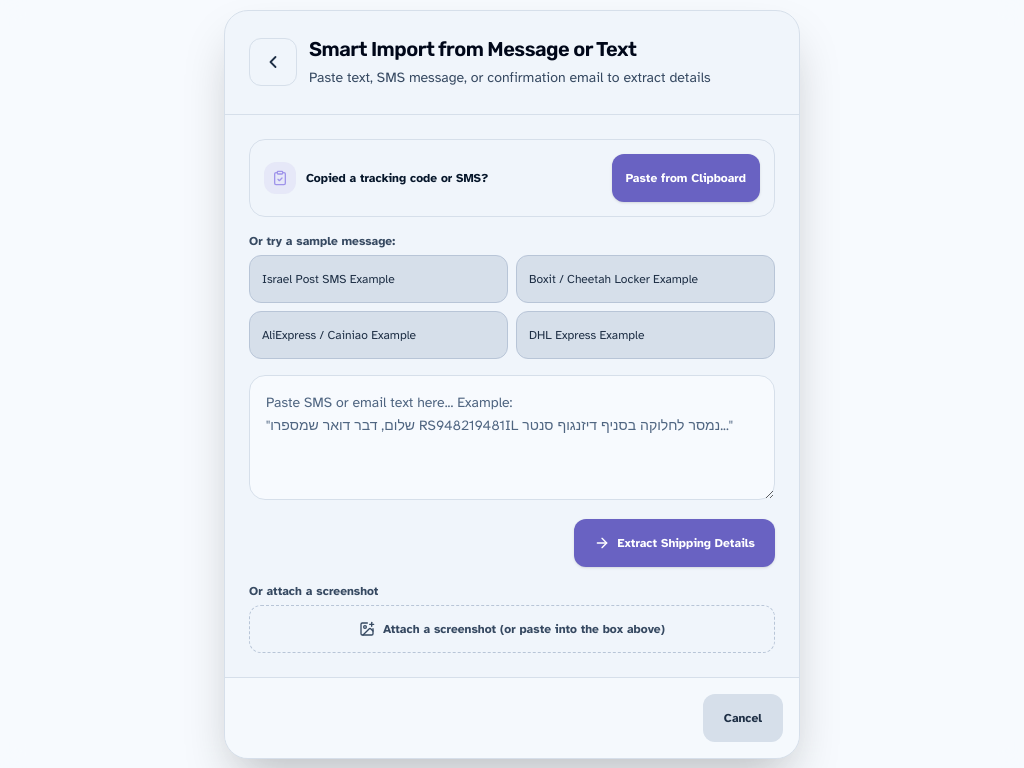
SmartImportModal — AI fallback (rendered) › shows a double-check hint for a low-confidence AI result
Type "unclear message" into the text box.
click(512, 437); type("unclear message")  # box [249,374,775,499]
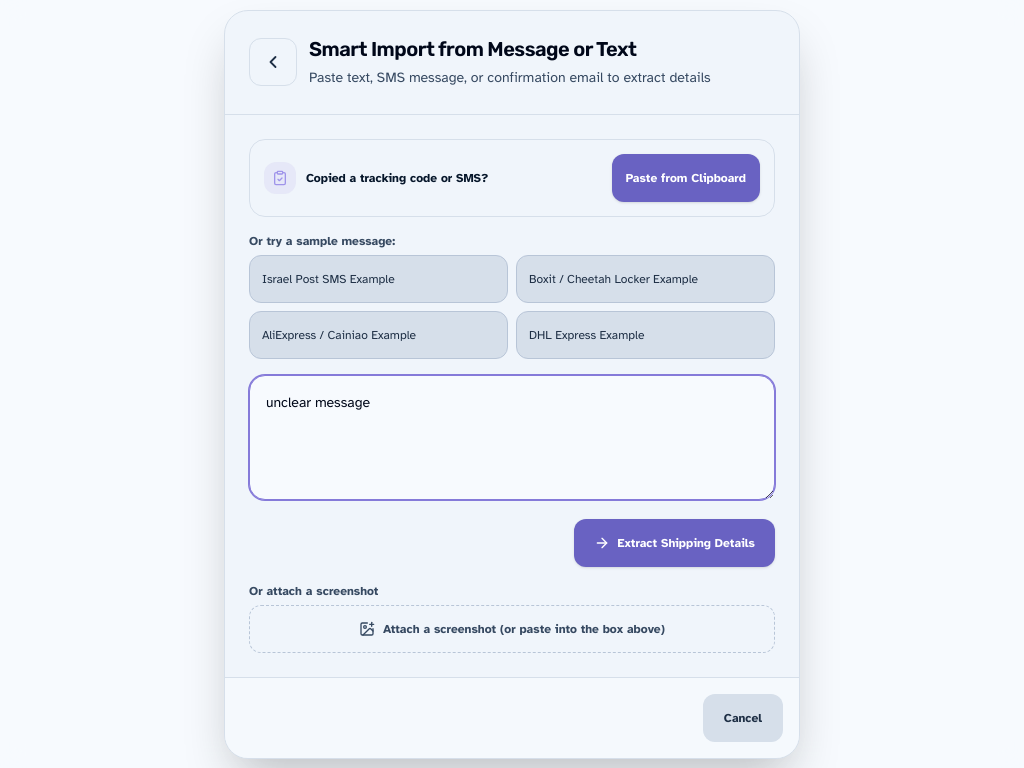
Click the button "Extract Shipping Details".
click(674, 542)  # box [574,518,775,566]
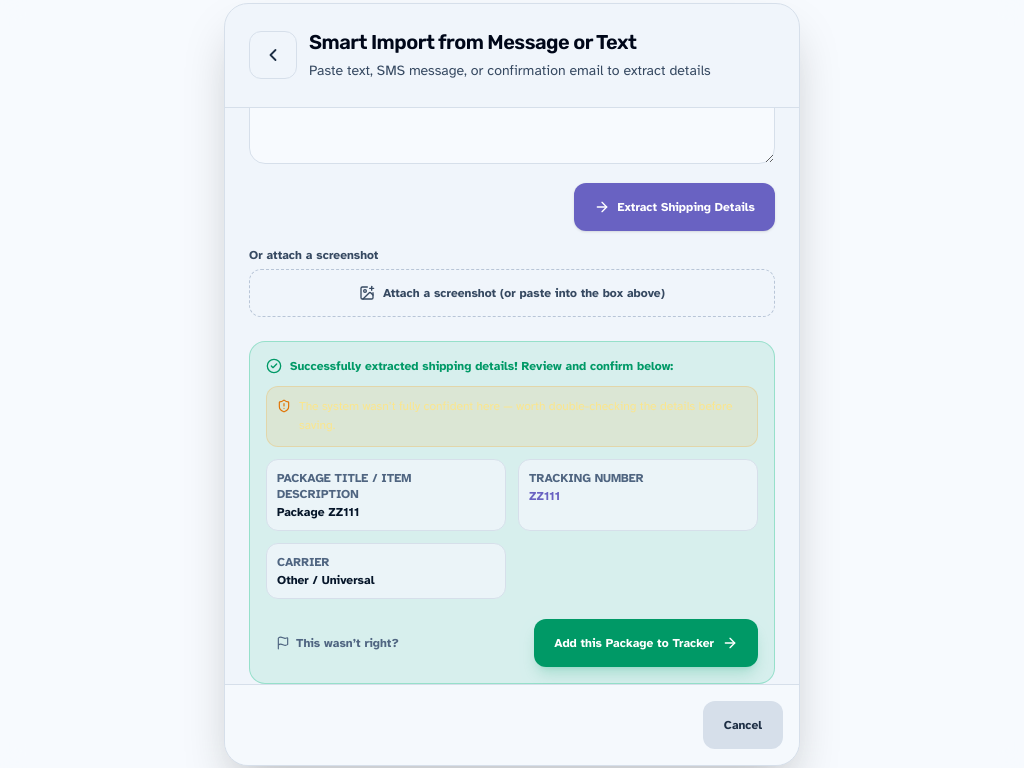
Expected: the text "wasn.t fully confident" is shown, [299,398,732,432]
